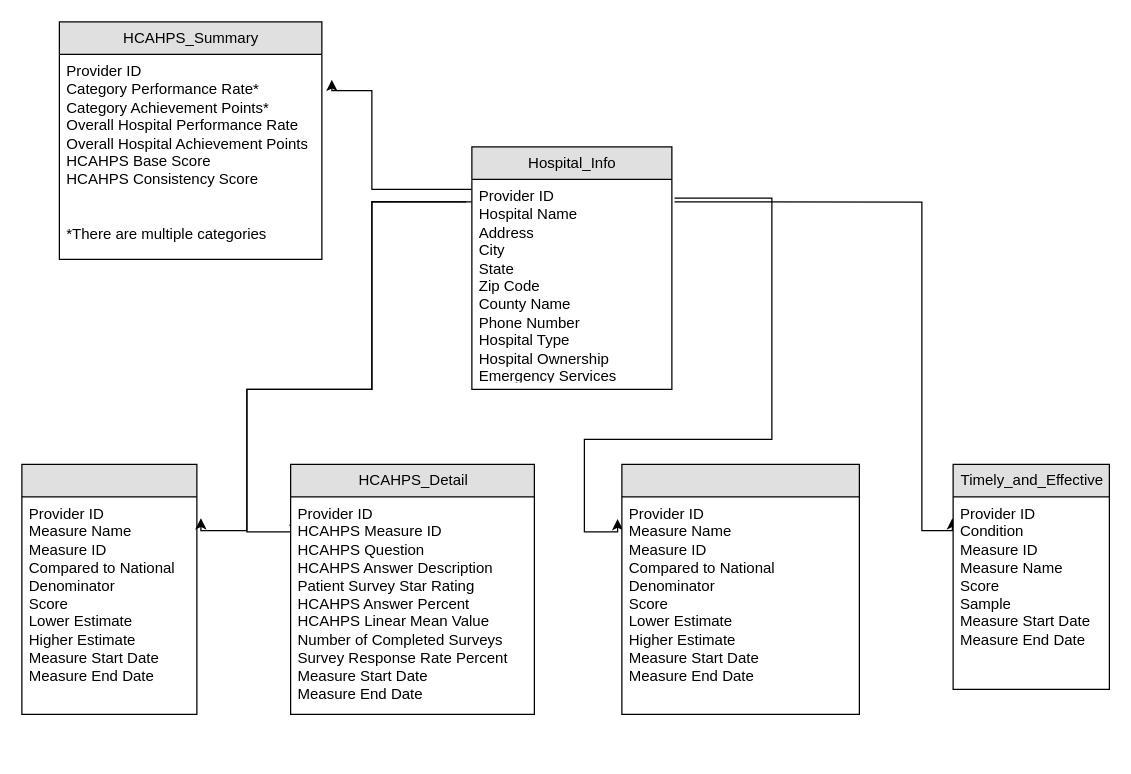
The diagram is 1131 pixels wide and 774 high, and some of its shapes have lost their labels. The box of each missing label's shape, as (x1, y1, x2, y2) in pixels:
Complications: (21, 463, 197, 714)
Readmissions_and_Deaths: (621, 463, 859, 714)
